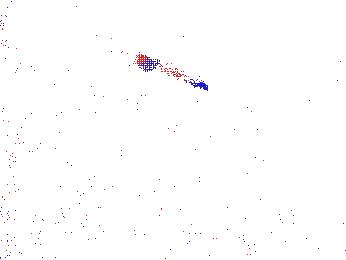X-ray fish: (61, 1, 130, 20)
redtail glassfish: (138, 53, 210, 91)
